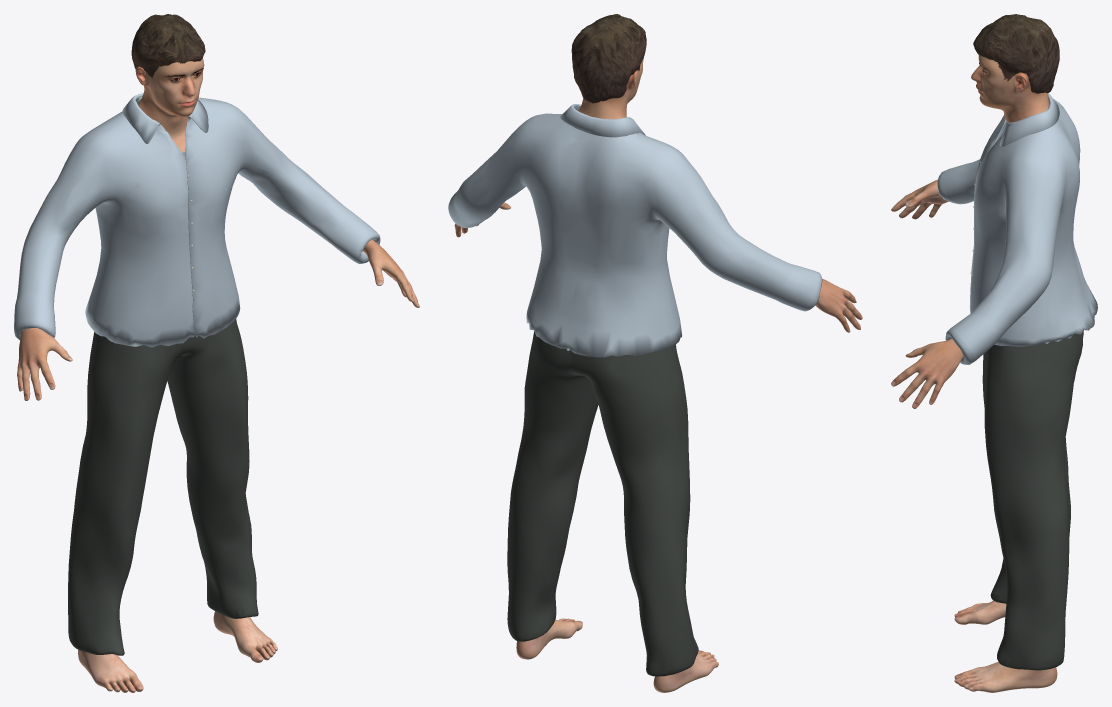
File: male-pale-trousers-shirt.glb
The picture shows the model from 3 angles, left to right: view 1: azimuth 30°, elevation 25°; view 2: azimuth 150°, elevation 25°; view 3: azimuth 270°, elevation 25°; orthographic projection.
Parts seen in each view (by area): view 1: Shirt, Trousers, Body, Hair; view 2: Shirt, Trousers, Hair, Body; view 3: Shirt, Trousers, Body, Hair.
Part boxes in pixels (<box>): Shirt: <box>14,93,380,347</box>; Trousers: <box>68,318,258,655</box>; Body: <box>17,58,419,692</box>; Hair: <box>131,14,205,77</box>; Shirt: <box>448,104,822,357</box>; Trousers: <box>507,331,698,676</box>; Hair: <box>571,14,646,103</box>; Body: <box>454,57,862,692</box>; Shirt: <box>937,93,1097,364</box>; Trousers: <box>982,330,1083,670</box>; Body: <box>891,55,1057,692</box>; Hair: <box>973,14,1059,93</box>.
Size of the model in its own units: 1.18 by 1.83 by 0.5395.
9 materials, 6 textured.
